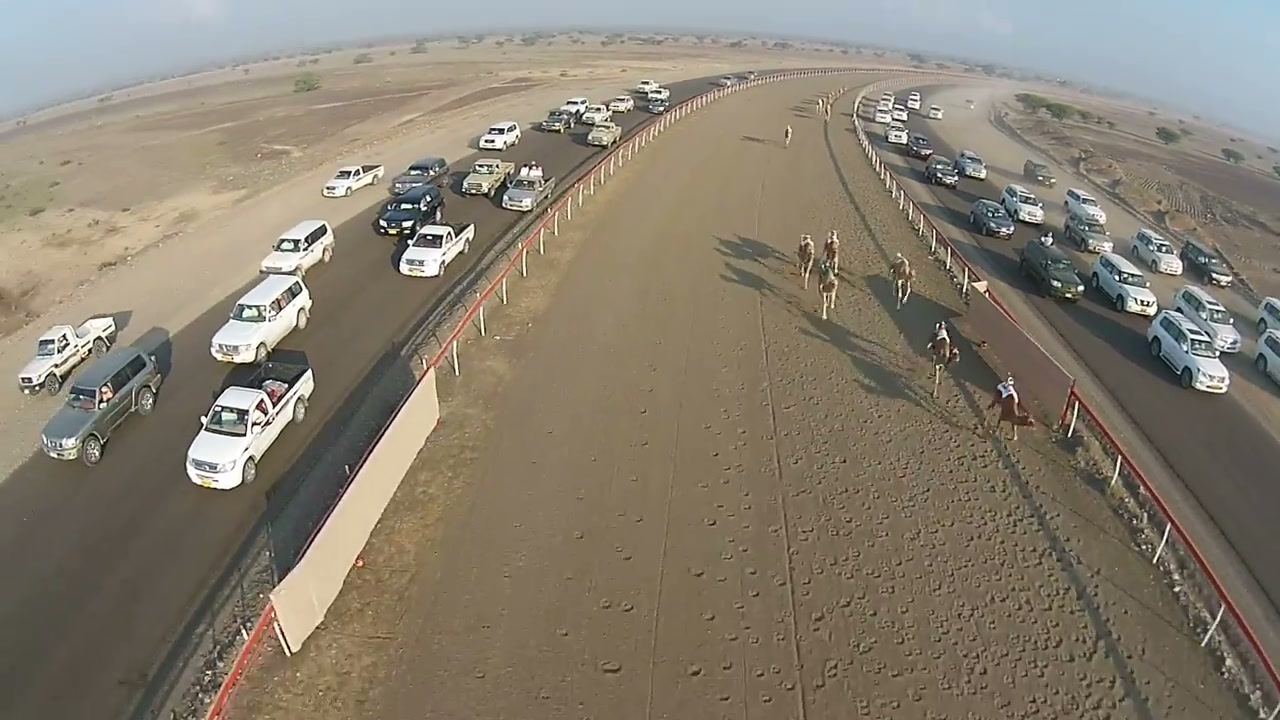animal_foot_print: (684, 360, 1175, 711)
